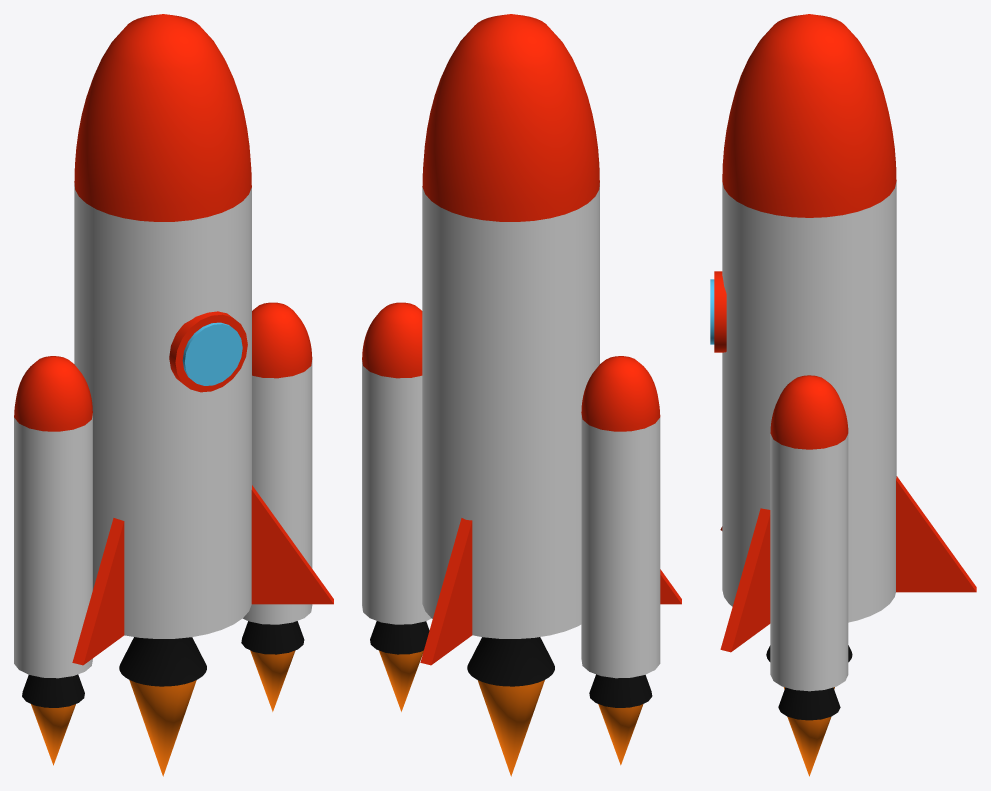
The model's file is Rocket_07_TwinOrange.obj.
The picture shows the model from 3 angles, left to right: view 1: azimuth 30°, elevation 25°; view 2: azimuth 150°, elevation 25°; view 3: azimuth 270°, elevation 25°; orthographic projection. The views are drawn at different scales.
Parts seen in each view (by area): view 1: R07_Body, R07_Nose, R07_Booster_2, R07_Booster_1, R07_Fin_3, R07_BoosterNose_2, R07_Fin_2, R07_BoosterNose_1, R07_Nozzle_1, R07_Flame_1, R07_Window_1, R07_WindowFrame_1 (+4 smaller); view 2: R07_Body, R07_Nose, R07_Booster_2, R07_Booster_1, R07_BoosterNose_2, R07_Fin_1, R07_BoosterNose_1, R07_Nozzle_1, R07_Flame_1, R07_BoosterNozzle_2, R07_BoosterNozzle_1, R07_BoosterFlame_2 (+1 smaller); view 3: R07_Body, R07_Nose, R07_Booster_1, R07_Fin_1, R07_BoosterNose_1, R07_Fin_3, R07_BoosterNozzle_1, R07_BoosterFlame_1, R07_WindowFrame_1.
Part boxes in pixels (x1=…): R07_Body: x1=74, y1=183, x2=251, y2=638; R07_Nose: x1=74, y1=14, x2=251, y2=221; R07_Booster_2: x1=14, y1=413, x2=92, y2=678; R07_Booster_1: x1=243, y1=360, x2=312, y2=624; R07_Fin_3: x1=251, y1=485, x2=333, y2=604; R07_BoosterNose_2: x1=14, y1=356, x2=92, y2=431; R07_Fin_2: x1=72, y1=518, x2=124, y2=665; R07_BoosterNose_1: x1=252, y1=302, x2=312, y2=378; R07_Nozzle_1: x1=119, y1=637, x2=206, y2=686; R07_Flame_1: x1=129, y1=680, x2=196, y2=776; R07_Window_1: x1=182, y1=322, x2=242, y2=385; R07_WindowFrame_1: x1=169, y1=311, x2=247, y2=392; R07_Body: x1=422, y1=183, x2=599, y2=638; R07_Nose: x1=422, y1=14, x2=599, y2=221; R07_Booster_2: x1=581, y1=413, x2=660, y2=678; R07_Booster_1: x1=362, y1=360, x2=431, y2=624; R07_BoosterNose_2: x1=581, y1=356, x2=660, y2=431; R07_Fin_1: x1=420, y1=518, x2=472, y2=665; R07_BoosterNose_1: x1=362, y1=302, x2=422, y2=378; R07_Nozzle_1: x1=467, y1=637, x2=554, y2=686; R07_Flame_1: x1=477, y1=680, x2=544, y2=776; R07_BoosterNozzle_2: x1=589, y1=674, x2=652, y2=707; R07_BoosterNozzle_1: x1=370, y1=621, x2=429, y2=654; R07_BoosterFlame_2: x1=598, y1=704, x2=643, y2=765; R07_Body: x1=722, y1=181, x2=896, y2=622; R07_Nose: x1=722, y1=14, x2=896, y2=217; R07_Booster_1: x1=770, y1=433, x2=848, y2=691; R07_Fin_1: x1=896, y1=476, x2=976, y2=592; R07_BoosterNose_1: x1=770, y1=375, x2=848, y2=449; R07_Fin_3: x1=720, y1=508, x2=770, y2=652; R07_BoosterNozzle_1: x1=778, y1=687, x2=840, y2=720; R07_BoosterFlame_1: x1=787, y1=716, x2=831, y2=776; R07_WindowFrame_1: x1=714, y1=271, x2=726, y2=352.
Size of the model in its own units: 3.18 by 8.05 by 2.6.
